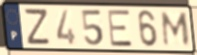4: (54, 8, 77, 46)
5: (80, 8, 106, 47)
6: (137, 9, 160, 49)
E: (106, 8, 135, 48)
M: (160, 11, 191, 48)
Z: (24, 8, 52, 47)
